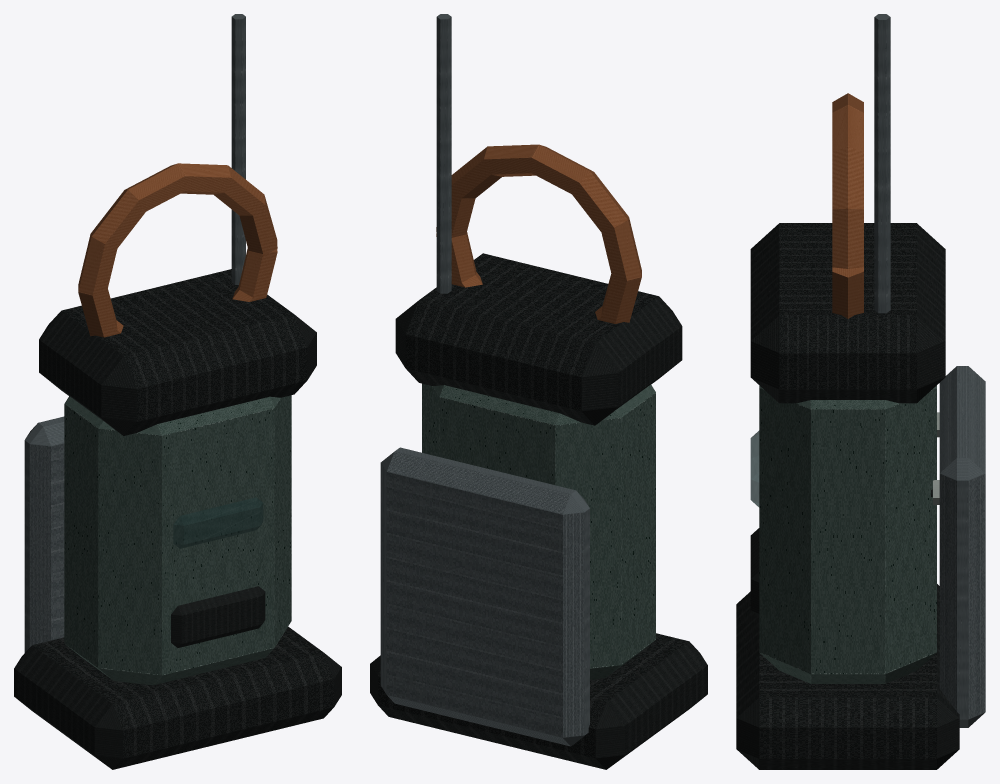
The model's file is blender_emf_array_2_node.glb.
The picture shows the model from 3 angles, left to right: view 1: azimuth 30°, elevation 25°; view 2: azimuth 150°, elevation 25°; view 3: azimuth 270°, elevation 25°; orthographic projection. The views are drawn at different scales.
Parts seen in each view (by area): view 1: blender_emf_array_2_node; view 2: blender_emf_array_2_node; view 3: blender_emf_array_2_node.
Part boxes in pixels (x1,y1,x2,y2): blender_emf_array_2_node: (14,14,341,769); blender_emf_array_2_node: (370,14,707,769); blender_emf_array_2_node: (736,14,985,769).
Size of the model in its own units: 0.055 by 0.142 by 0.0435.
6 materials, 6 textured.
